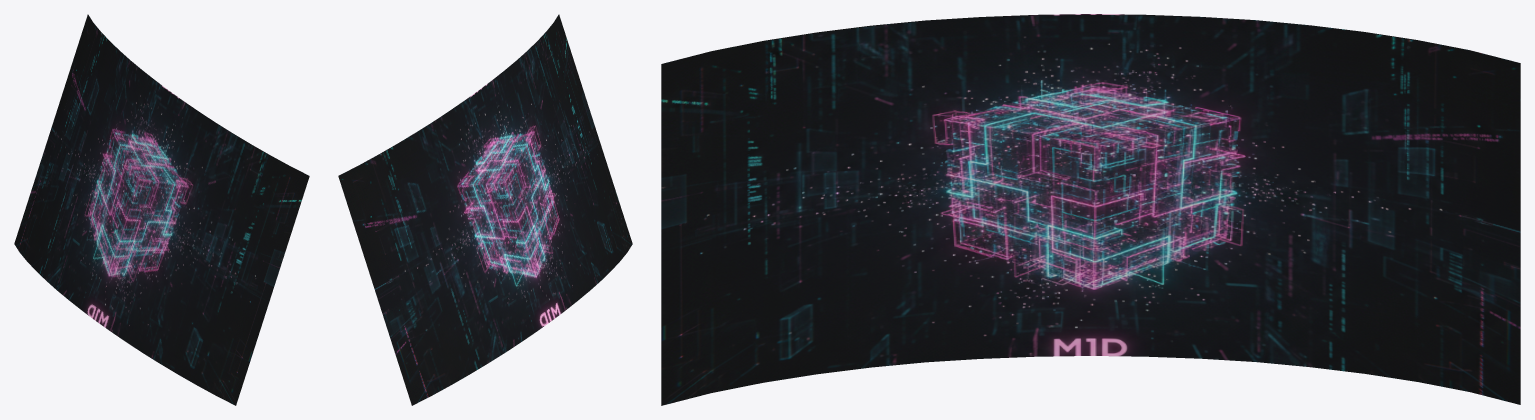
Rendered from m1d_curved_screen2.glb.
3 views of the same model, side by side, from view 1: azimuth 30°, elevation 25°; view 2: azimuth 150°, elevation 25°; view 3: azimuth 270°, elevation 25° (orthographic). The views are drawn at different scales.
Parts seen in each view (by area): view 1: video_screen2; view 2: video_screen2; view 3: video_screen2.
Part boxes in pixels (left/top/right/bottom): video_screen2: left=14, top=14, right=309, bottom=405; video_screen2: left=338, top=14, right=632, bottom=405; video_screen2: left=661, top=14, right=1520, bottom=405.
Bounding box in the file's own units: 1.8 × 3.72 × 6.69.
Materials: 1 (1 with a texture image).
